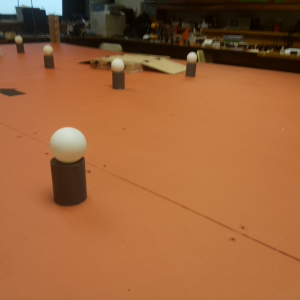corner: (48, 16, 59, 42)
obstacle: (48, 126, 90, 207), (110, 59, 124, 89), (184, 53, 198, 82), (43, 45, 54, 70), (14, 34, 24, 55)
side: (88, 58, 110, 70)
slope: (140, 56, 183, 75)
start: (1, 83, 29, 97)
